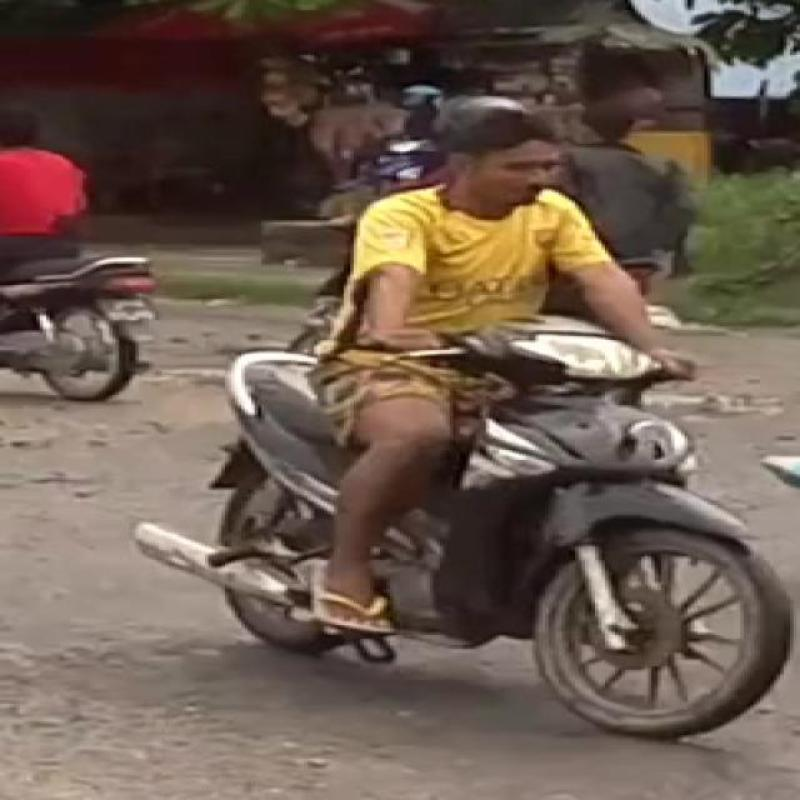nohelmet: (403, 83, 574, 242)
